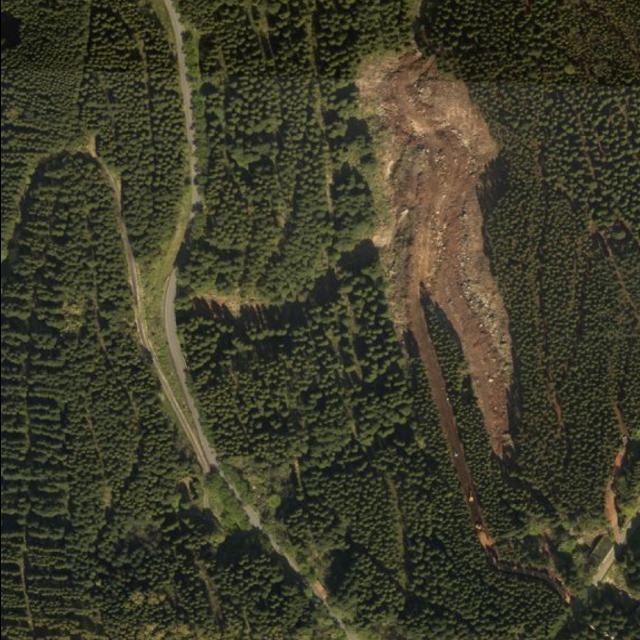landslide: (357, 49, 513, 459)
